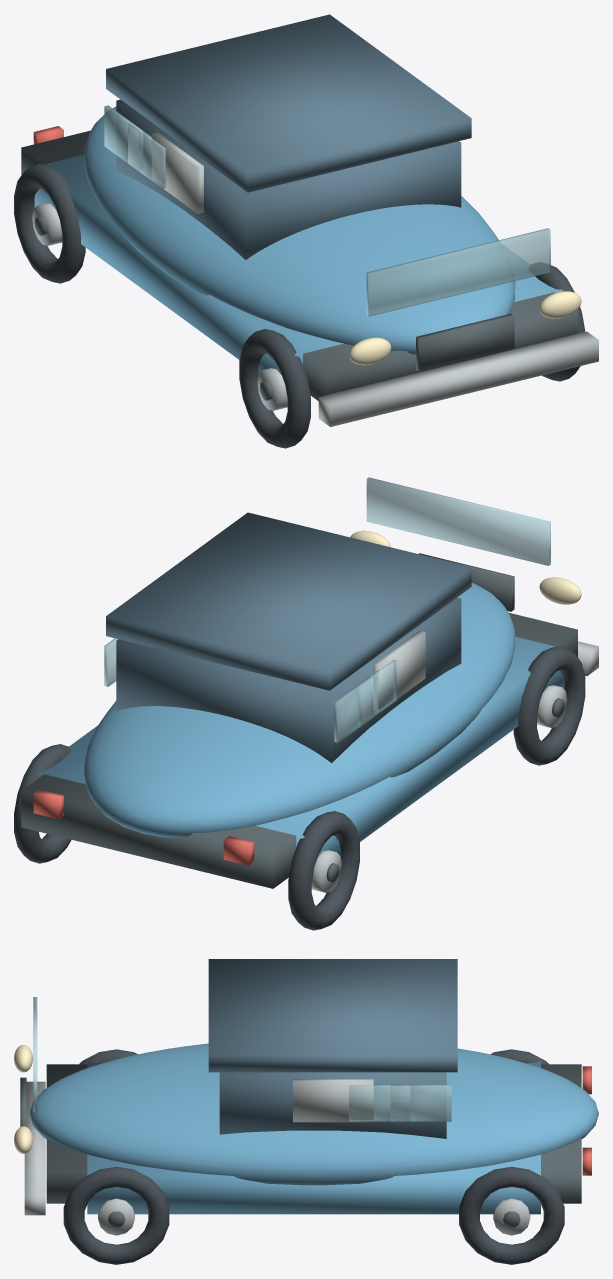
File: quaternius_cc0-normal-car-1190.glb
3 renders of one model, top to bottom at view 1: azimuth 30°, elevation 25°; view 2: azimuth 150°, elevation 25°; view 3: azimuth 270°, elevation 25°, orthographic. The views are drawn at different scales.
Visible parts, largest first — view 1: car_mat_05_cabin_frame, car_mat_01_rounded_body, car_mat_02_front_bumper, car_mat_08_wheel_0, car_mat_00_underbody, car_mat_07_side_glass_-1_0, car_mat_03_front_lamp_-0.6052000000000001; view 2: car_mat_05_cabin_frame, car_mat_01_rounded_body, car_mat_00_underbody, car_mat_08_wheel_0, car_mat_07_side_glass_-1_0, car_mat_02_front_bumper, car_mat_04_tail_lamp_-0.6052000000000001, car_mat_03_front_lamp_-0.6052000000000001; view 3: car_mat_01_rounded_body, car_mat_05_cabin_frame, car_mat_08_wheel_0, car_mat_02_front_bumper, car_mat_00_underbody, car_mat_07_side_glass_-1_0, car_mat_03_front_lamp_-0.6052000000000001, car_mat_04_tail_lamp_-0.6052000000000001.
Boxes of the visible parts, left/top/right/bottom form: car_mat_05_cabin_frame: left=106, top=14, right=471, bottom=259; car_mat_01_rounded_body: left=34, top=106, right=563, bottom=375; car_mat_02_front_bumper: left=32, top=132, right=598, bottom=426; car_mat_08_wheel_0: left=14, top=164, right=585, bottom=448; car_mat_00_underbody: left=21, top=130, right=577, bottom=400; car_mat_07_side_glass_-1_0: left=104, top=105, right=550, bottom=316; car_mat_03_front_lamp_-0.6052000000000001: left=349, top=291, right=581, bottom=365; car_mat_05_cabin_frame: left=106, top=512, right=471, bottom=763; car_mat_01_rounded_body: left=36, top=583, right=564, bottom=856; car_mat_00_underbody: left=21, top=553, right=577, bottom=888; car_mat_08_wheel_0: left=14, top=646, right=585, bottom=930; car_mat_07_side_glass_-1_0: left=104, top=477, right=550, bottom=742; car_mat_02_front_bumper: left=311, top=630, right=598, bottom=892; car_mat_04_tail_lamp_-0.6052000000000001: left=33, top=789, right=254, bottom=865; car_mat_03_front_lamp_-0.6052000000000001: left=350, top=530, right=581, bottom=604; car_mat_01_rounded_body: left=29, top=1043, right=598, bottom=1214; car_mat_05_cabin_frame: left=208, top=959, right=457, bottom=1138; car_mat_08_wheel_0: left=63, top=1049, right=564, bottom=1264; car_mat_02_front_bumper: left=24, top=1079, right=530, bottom=1235; car_mat_00_underbody: left=20, top=1064, right=581, bottom=1227; car_mat_07_side_glass_-1_0: left=33, top=997, right=451, bottom=1121; car_mat_03_front_lamp_-0.6052000000000001: left=14, top=1045, right=32, bottom=1153; car_mat_04_tail_lamp_-0.6052000000000001: left=582, top=1066, right=591, bottom=1175.
Size of the model in its own units: 1.88 by 1.38 by 3.67.
